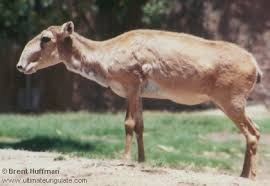saiga: (16, 20, 263, 180)
